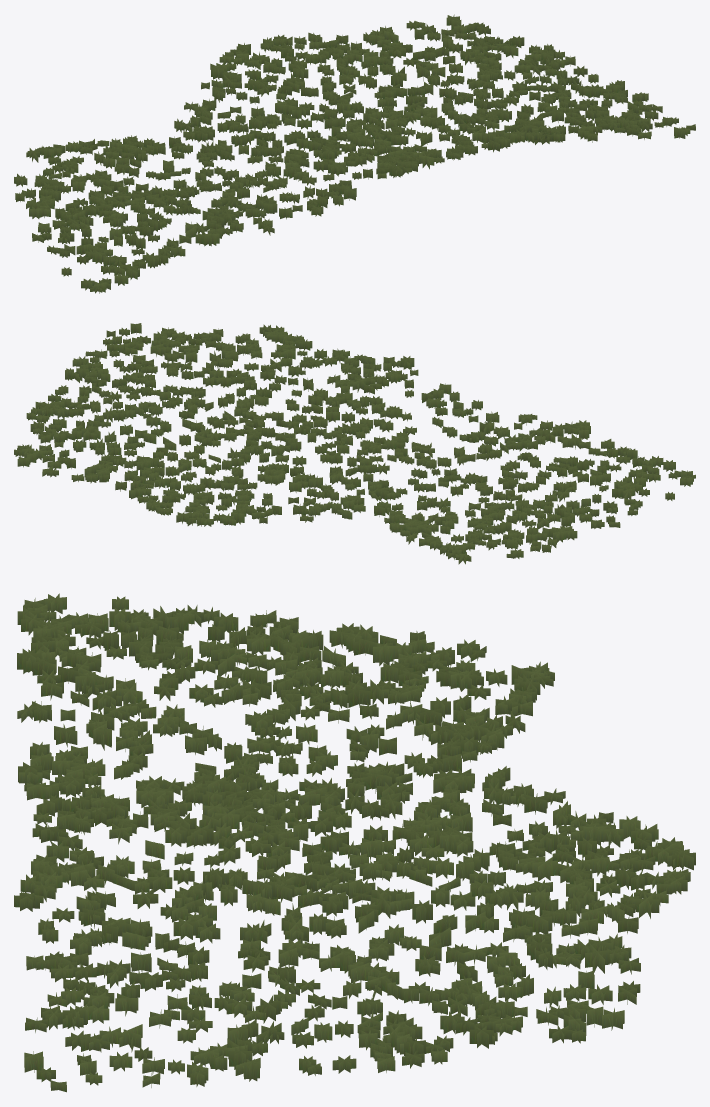
Rendered from TRB8-GRASS-CHUNK-8-5.glb.
The picture shows the model from 3 angles, top to bottom: view 1: azimuth 30°, elevation 25°; view 2: azimuth 150°, elevation 25°; view 3: azimuth 270°, elevation 25°; orthographic projection. The views are drawn at different scales.
Parts seen in each view (by area): view 1: TRB8-GRASS-CHUNK-8-5; view 2: TRB8-GRASS-CHUNK-8-5; view 3: TRB8-GRASS-CHUNK-8-5.
Boxes of the visible parts, x1,y1,x2,y2 form: TRB8-GRASS-CHUNK-8-5: (14, 14, 695, 293); TRB8-GRASS-CHUNK-8-5: (14, 323, 695, 564); TRB8-GRASS-CHUNK-8-5: (14, 593, 695, 1092).
Bounding box in the file's own units: 28.41 × 2.59 × 16.22.
1 material, 1 textured.
